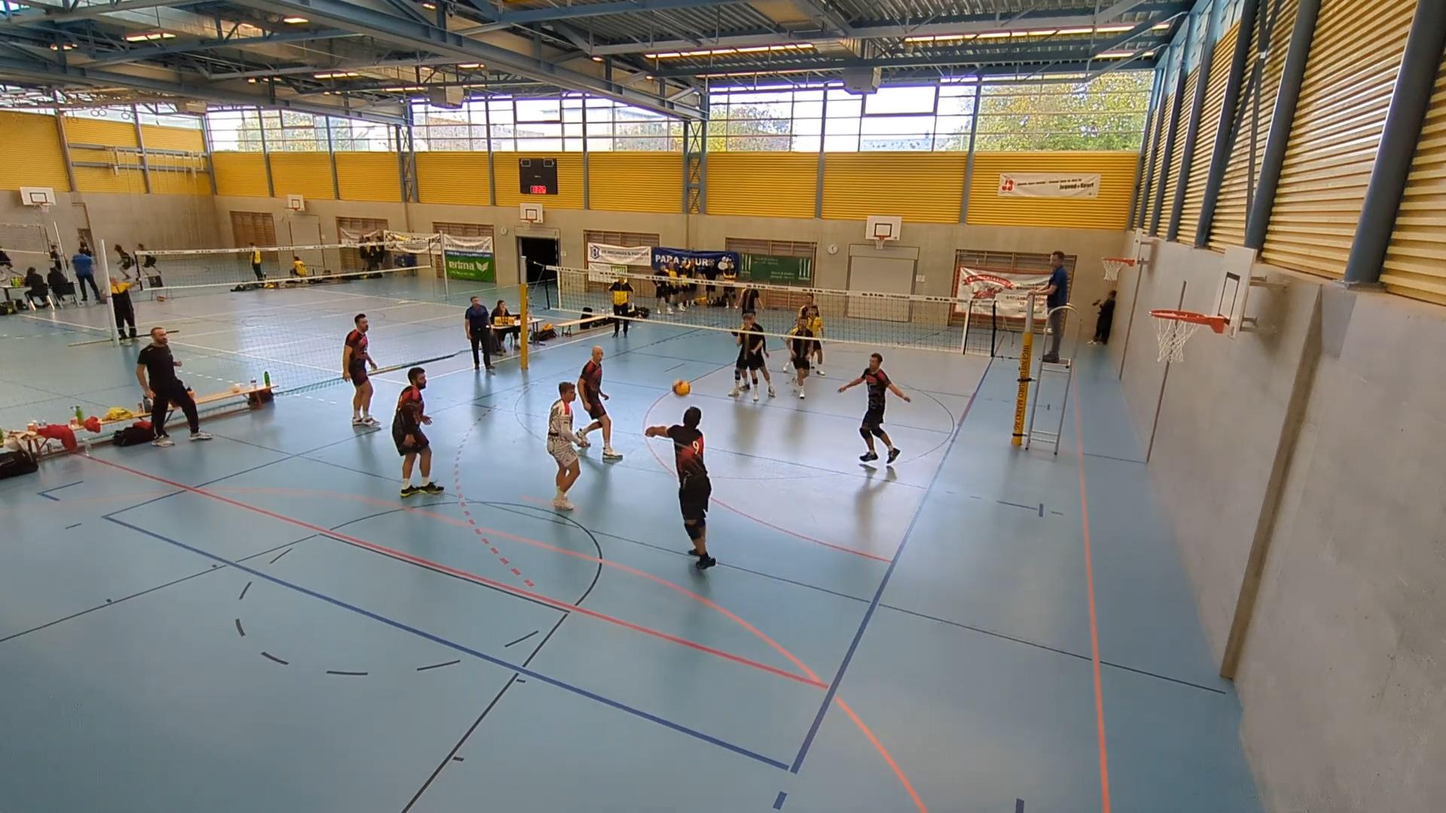Player: (838, 352, 911, 463), (392, 367, 444, 497), (578, 346, 621, 461), (728, 311, 775, 401), (546, 382, 579, 510), (342, 313, 379, 427), (788, 314, 816, 398), (740, 285, 761, 314), (812, 340, 825, 376), (798, 293, 814, 319)
Receive: (643, 403, 716, 577)
ball: (669, 383, 691, 397)
